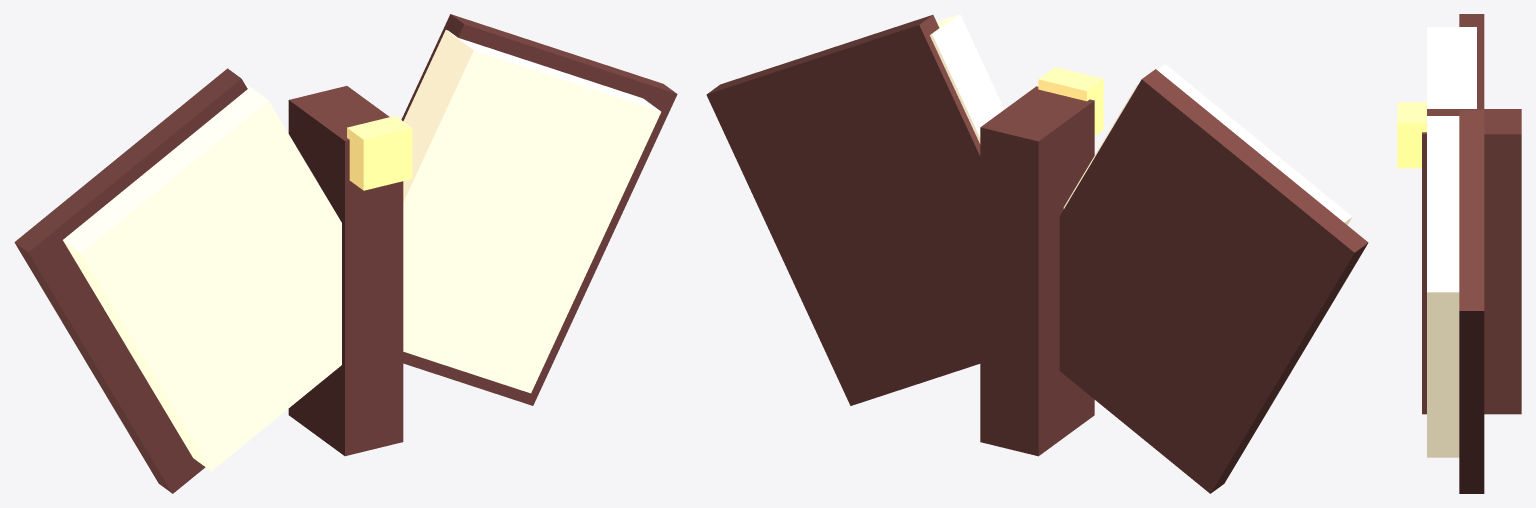
Rendered from book.glb.
3 renders of one model, left to right at view 1: azimuth 30°, elevation 25°; view 2: azimuth 150°, elevation 25°; view 3: azimuth 270°, elevation 25°, orthographic. The views are drawn at different scales.
Parts seen in each view (by area): view 1: pages_left, pages_right, spine, cover_left, cover_right, clasp; view 2: cover_left, cover_right, spine, pages_right, pages_left, clasp; view 3: spine, pages_right, cover_right, pages_left, clasp, cover_left.
Part boxes in pixels (<box>): pages_left: <box>63,82,341,471</box>; pages_right: <box>403,30,660,393</box>; spine: <box>288,86,403,456</box>; cover_left: <box>14,68,247,493</box>; cover_right: <box>401,14,677,405</box>; clasp: <box>347,116,412,190</box>; cover_left: <box>1059,69,1368,493</box>; cover_right: <box>706,15,1063,405</box>; spine: <box>980,86,1094,456</box>; pages_right: <box>930,14,1004,143</box>; pages_left: <box>1063,64,1352,224</box>; clasp: <box>1038,67,1103,135</box>; spine: <box>1422,109,1521,414</box>; pages_right: <box>1427,116,1459,457</box>; cover_right: <box>1459,110,1484,493</box>; pages_left: <box>1427,27,1476,108</box>; clasp: <box>1397,102,1426,168</box>; cover_left: <box>1459,14,1484,108</box>.
Size of the model in its own units: 1.34 by 0.7838 by 0.25.
